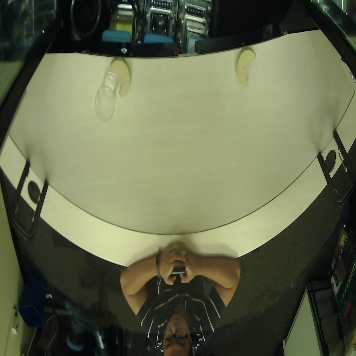empty_cup: (95, 70, 118, 120)
puck: (230, 45, 261, 90), (111, 57, 131, 96)
